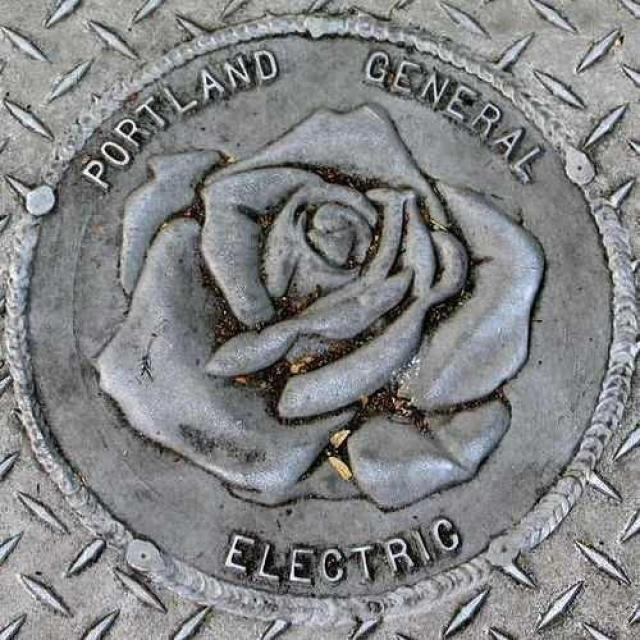manhole: (32, 27, 579, 594)
